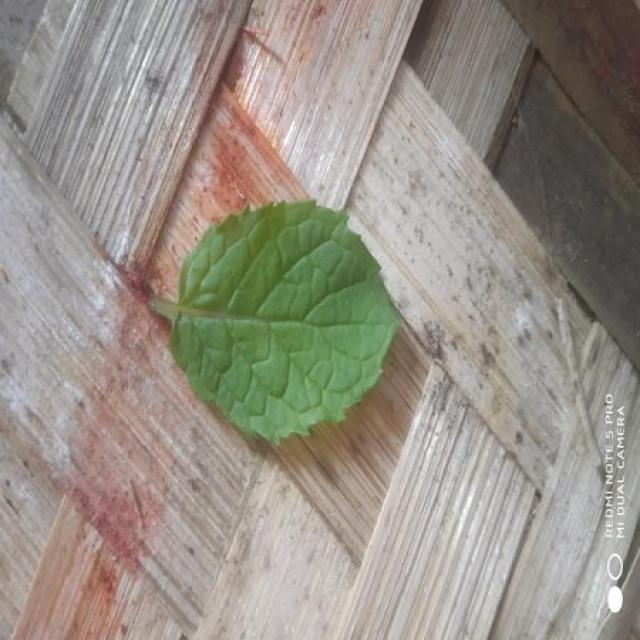mint: (160, 201, 398, 442)
